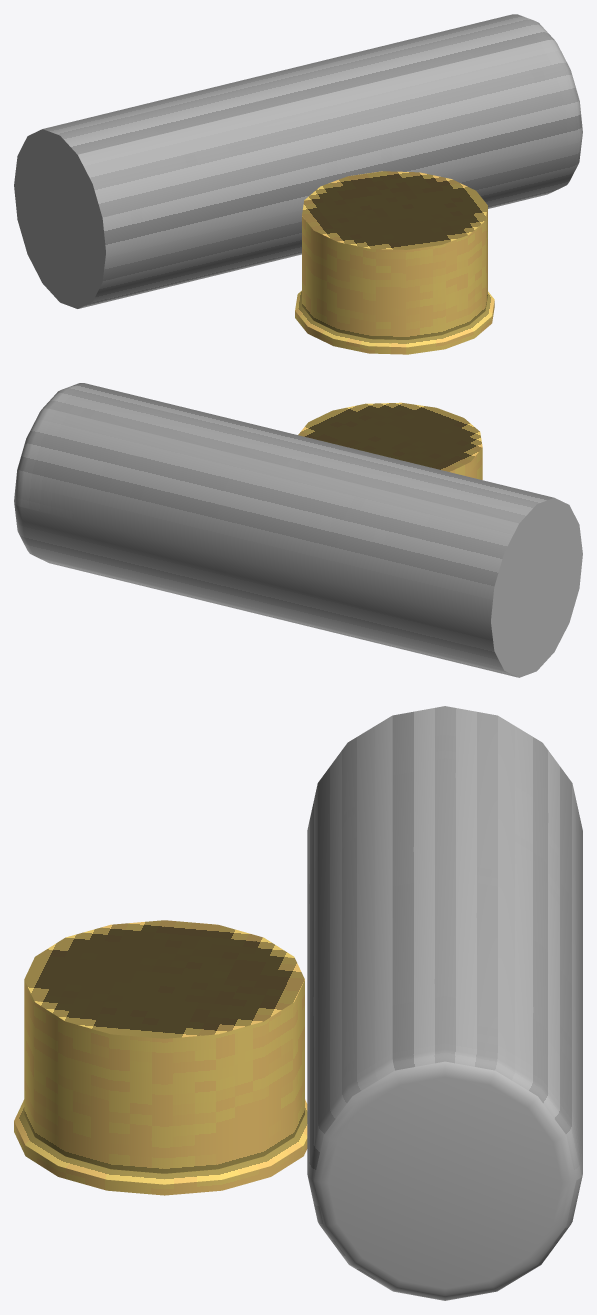
File: ammomaker_HullShotgunL.fbx
3 views of the same model, one above another, from view 1: azimuth 30°, elevation 25°; view 2: azimuth 150°, elevation 25°; view 3: azimuth 270°, elevation 25° (orthographic). The views are drawn at different scales.
Parts seen in each view (by area): view 1: ammomaker_HullShotgunL; view 2: ammomaker_HullShotgunL; view 3: ammomaker_HullShotgunL.
Part boxes in pixels (<box>): ammomaker_HullShotgunL: <box>14,14,582,354</box>; ammomaker_HullShotgunL: <box>14,383,582,677</box>; ammomaker_HullShotgunL: <box>14,706,582,1300</box>.
Bounding box in the file's own units: 7.92 × 2.62 × 5.41.
